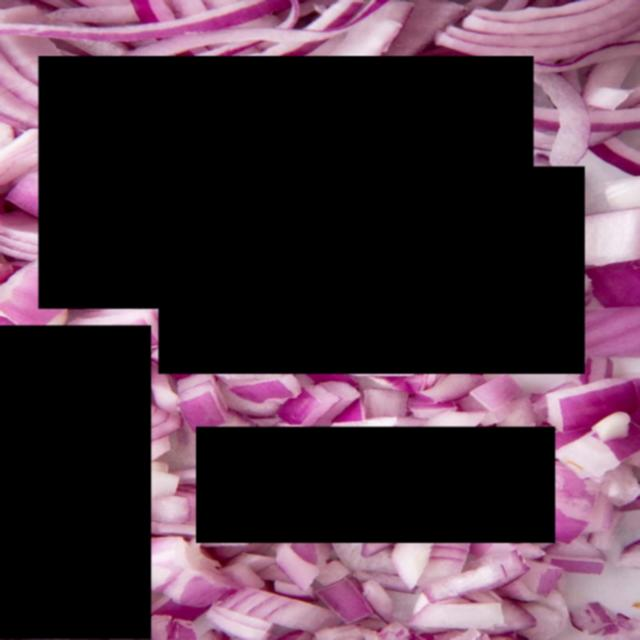Onion: (38, 56, 534, 309), (158, 167, 585, 374), (0, 325, 151, 640), (197, 427, 556, 543)
